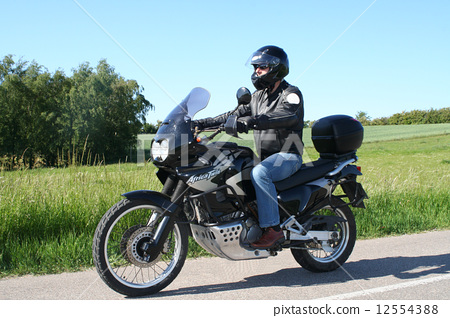helmet: (245, 43, 290, 85)
